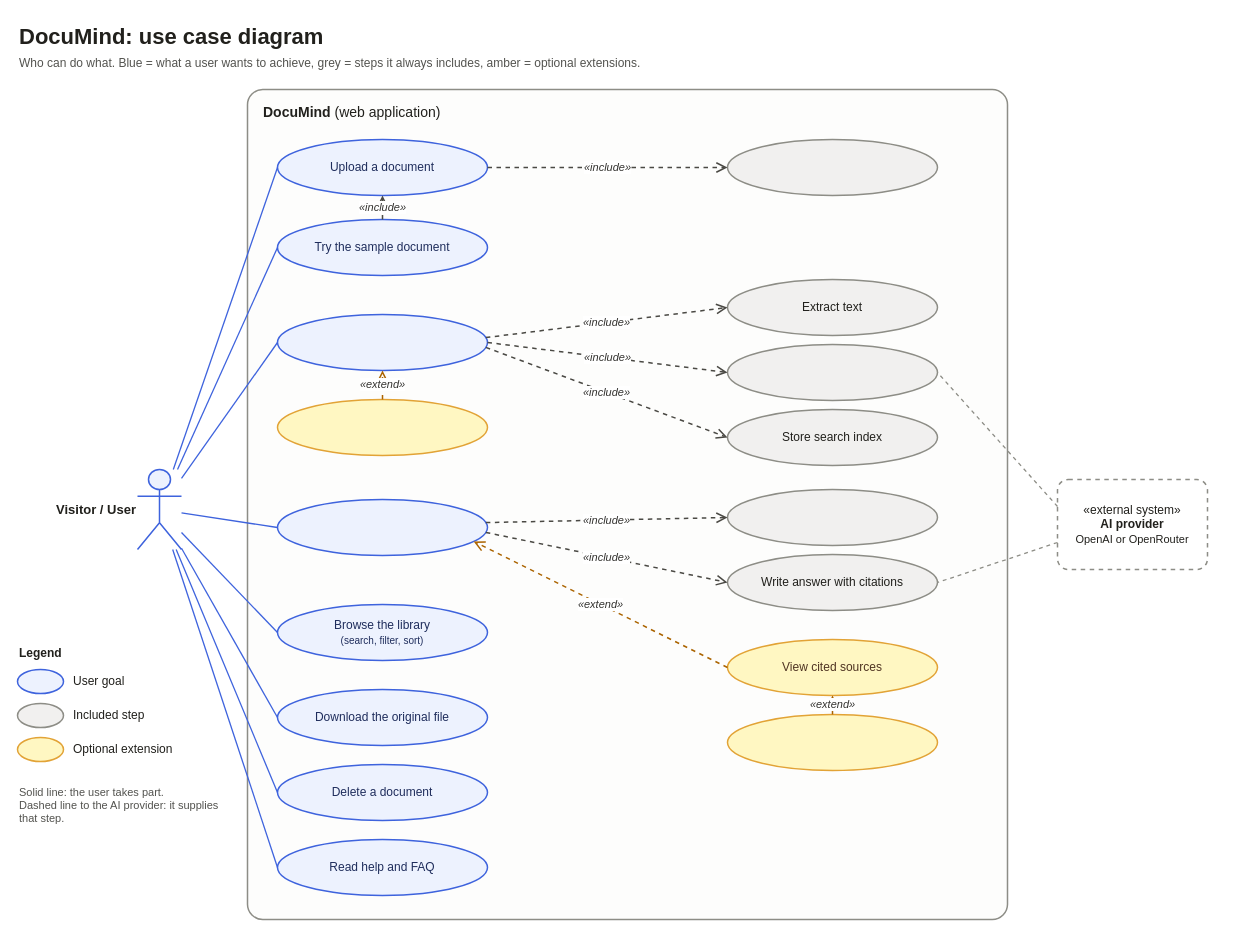
Some shapes in this 1235 by 937 pixel diagram are drawn without their labels. The centre of each missing label's shape, as x and y in pixels:
Ask a question: (x=382, y=527)
Create embeddings: (x=832, y=372)
Find relevant passages: (x=832, y=517)
Preview the cited PDF page: (x=832, y=742)
Process a document (read and index it): (x=382, y=342)
Retry a failed document: (x=382, y=427)
Validate file (type, not empty, size): (x=832, y=167)
